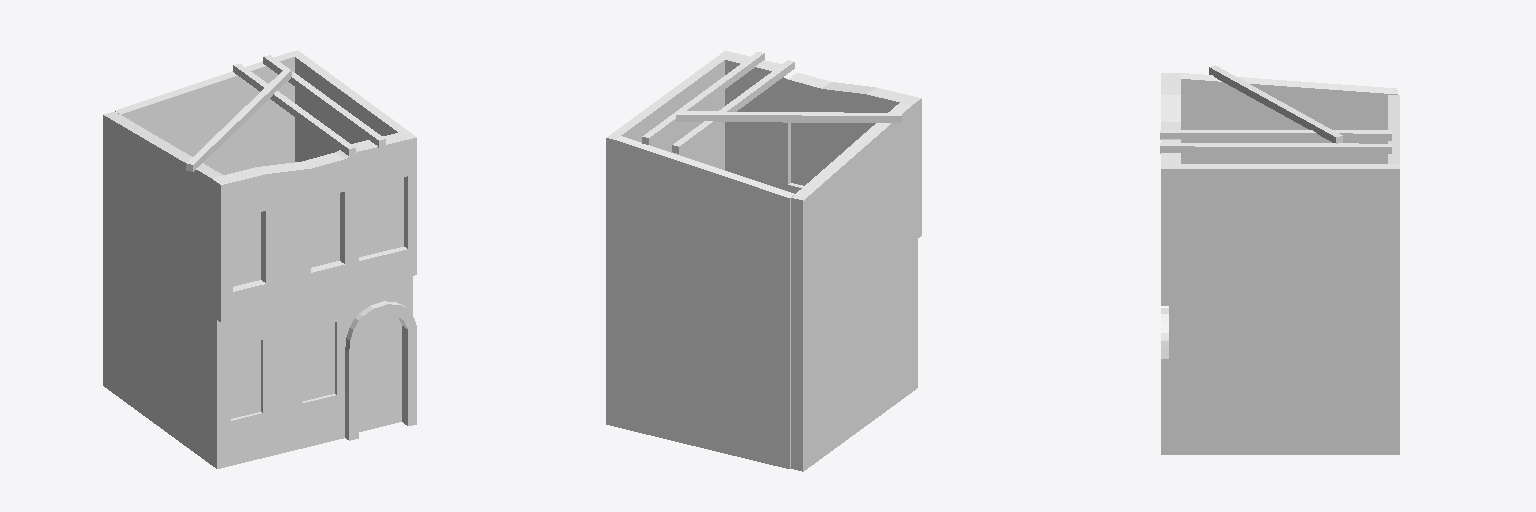
File: war_torn16.obj
The picture shows the model from 3 angles: view 1: azimuth 30°, elevation 25°; view 2: azimuth 150°, elevation 25°; view 3: azimuth 270°, elevation 25°; orthographic projection.
Parts seen in each view (by area): view 1: war_torn16; view 2: war_torn16; view 3: war_torn16.
Boxes of the visible parts, box(x1,y1,x2,y2) form: war_torn16: box(103, 50, 416, 468); war_torn16: box(606, 51, 921, 471); war_torn16: box(1160, 65, 1399, 454).
Bounding box in the file's own units: 163 × 229 × 166.